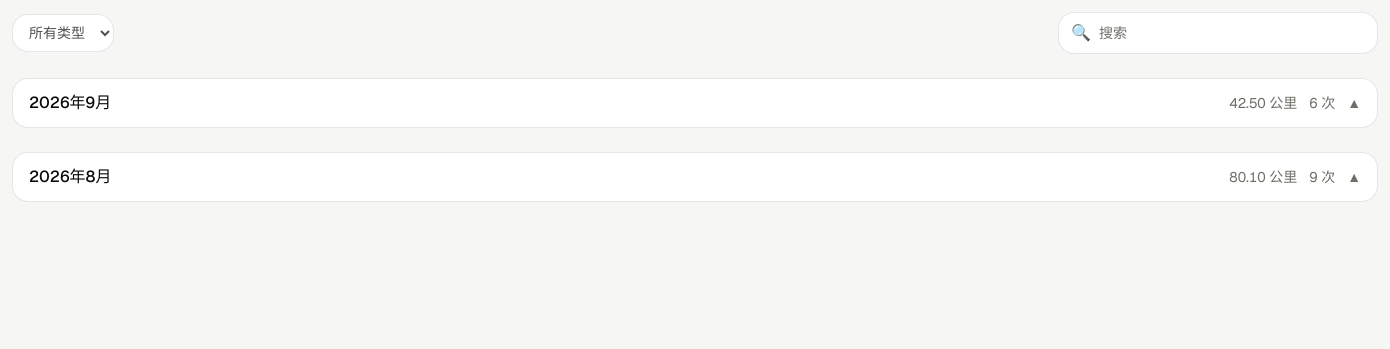
ListClient 活动列表 (交互/筛选/无限滚动) › 点击未加载月份 → fetch 当月活动 → 渲染
The image size is (1390, 349).
Click the button "2026年8月 80.10 公里 9 次 ▲": x=70, y=176 [12,152,1378,202]
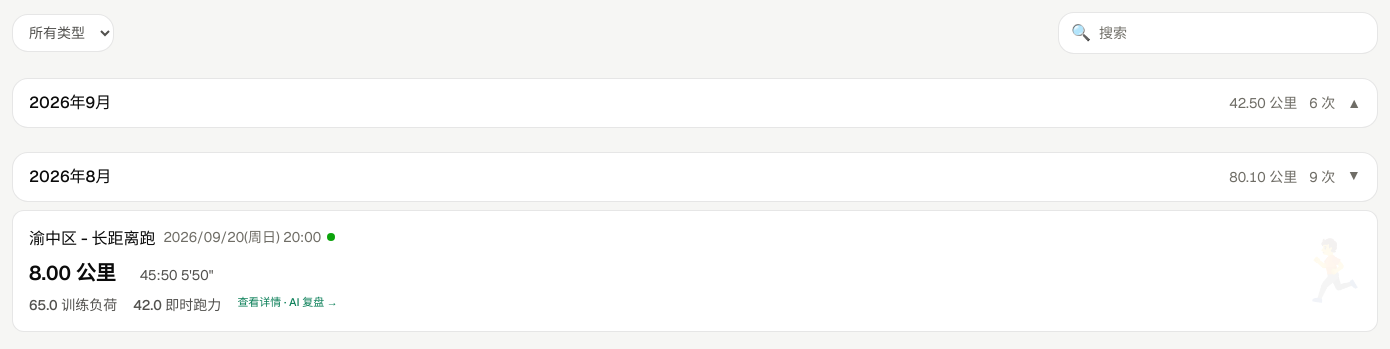
Result: the button "渝中区 - 长距离跑" is shown at [12,210,1378,332]
